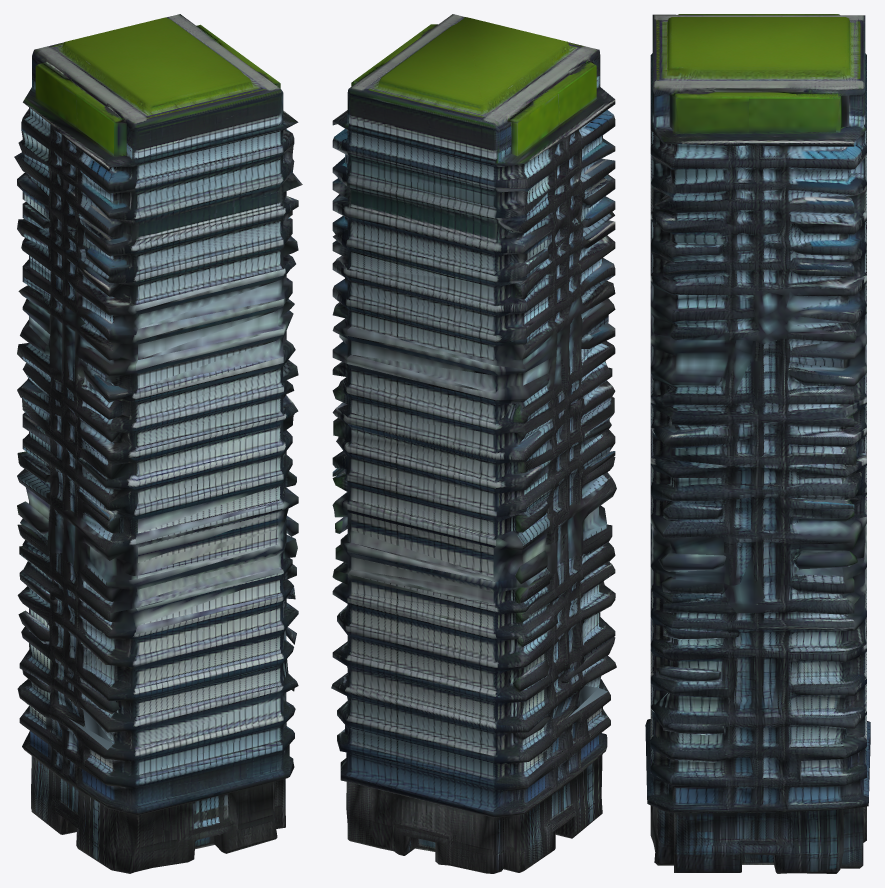
The model's file is skyscraper_large_2.glb.
The picture shows the model from 3 angles, left to right: view 1: azimuth 30°, elevation 25°; view 2: azimuth 150°, elevation 25°; view 3: azimuth 270°, elevation 25°; orthographic projection. The views are drawn at different scales.
Bounding box in the file's own units: 0.5049 × 1.91 × 0.4932.
Materials: 1 (1 with a texture image).
